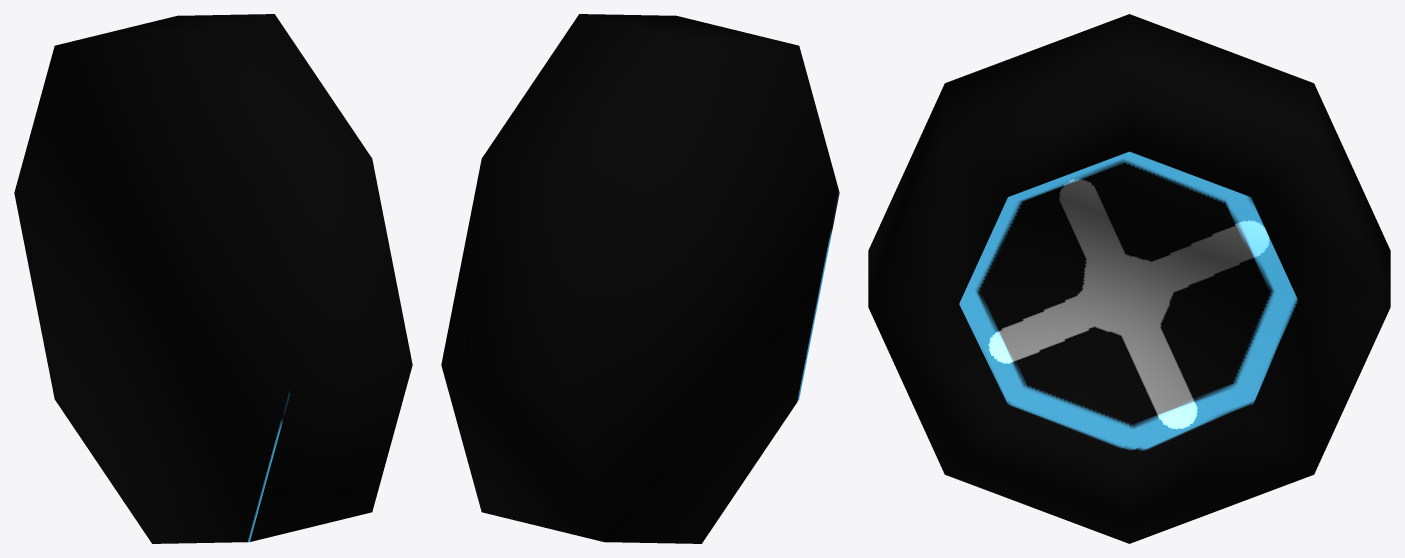
File: roueVinnie.glb
3 views of the same model, side by side, from view 1: azimuth 30°, elevation 25°; view 2: azimuth 150°, elevation 25°; view 3: azimuth 270°, elevation 25° (orthographic). The views are drawn at different scales.
Parts seen in each view (by area): view 1: Cylinder.003; view 2: Cylinder.003; view 3: Cylinder.003.
Boxes of the visible parts, left/top/right/bottom form: Cylinder.003: left=14, top=14, right=412, bottom=543; Cylinder.003: left=441, top=14, right=839, bottom=543; Cylinder.003: left=868, top=14, right=1390, bottom=543.
Size of the model in its own units: 0.1629 by 0.6355 by 0.6355.
Materials: 1 (1 with a texture image).
